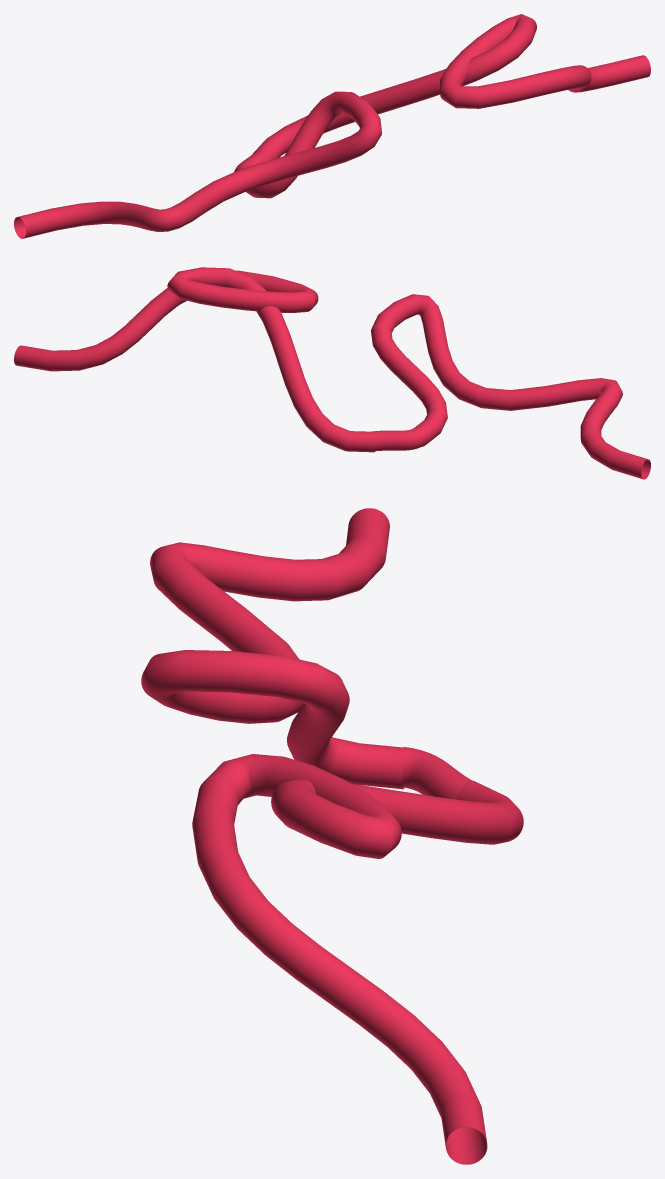
The model's file is wire.fbx.
3 renders of one model, top to bottom at view 1: azimuth 30°, elevation 25°; view 2: azimuth 150°, elevation 25°; view 3: azimuth 270°, elevation 25°, orthographic. The views are drawn at different scales.
Parts seen in each view (by area): view 1: BezierCurve.001, BezierCurve, BezierCurve.002; view 2: BezierCurve, BezierCurve.001, BezierCurve.002; view 3: BezierCurve, BezierCurve.001, BezierCurve.002.
Part boxes in pixels (left/top/right/bottom): BezierCurve.001: left=14, top=91, right=381, bottom=238; BezierCurve: left=253, top=14, right=650, bottom=158; BezierCurve.002: left=234, top=149, right=274, bottom=171; BezierCurve: left=14, top=267, right=375, bottom=452; BezierCurve.001: left=371, top=294, right=650, bottom=479; BezierCurve.002: left=371, top=426, right=428, bottom=451; BezierCurve: left=192, top=754, right=523, bottom=1164; BezierCurve.001: left=141, top=508, right=404, bottom=789; BezierCurve.002: left=402, top=747, right=471, bottom=799.
Bounding box in the file's own units: 599 × 102 × 165.
